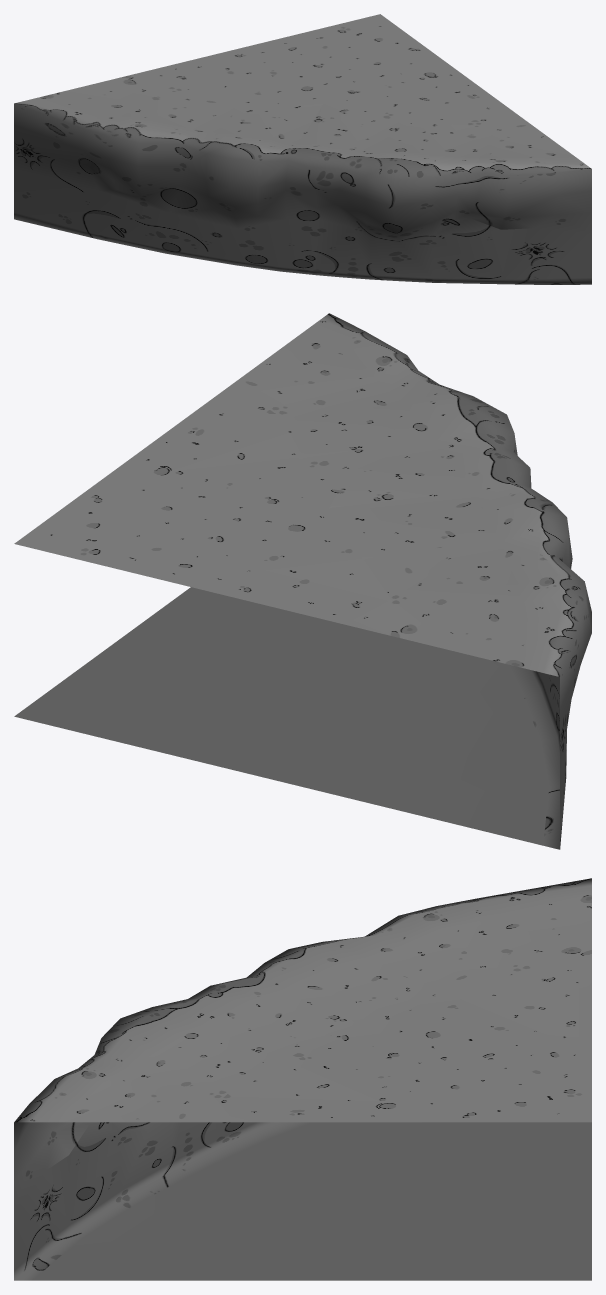
The model's file is FloorTileEdge_OuterCorner_01.obj.
3 renders of one model, top to bottom at view 1: azimuth 30°, elevation 25°; view 2: azimuth 150°, elevation 25°; view 3: azimuth 270°, elevation 25°, orthographic. The views are drawn at different scales.
Visible parts, largest first — view 1: LOWOUTCORN; view 2: LOWOUTCORN; view 3: LOWOUTCORN.
Boxes of the visible parts, left/top/right/bottom form: LOWOUTCORN: left=14, top=14, right=591, bottom=284; LOWOUTCORN: left=14, top=313, right=591, bottom=849; LOWOUTCORN: left=14, top=878, right=591, bottom=1280.
Bounding box in the file's own units: 175 × 56.26 × 175.
